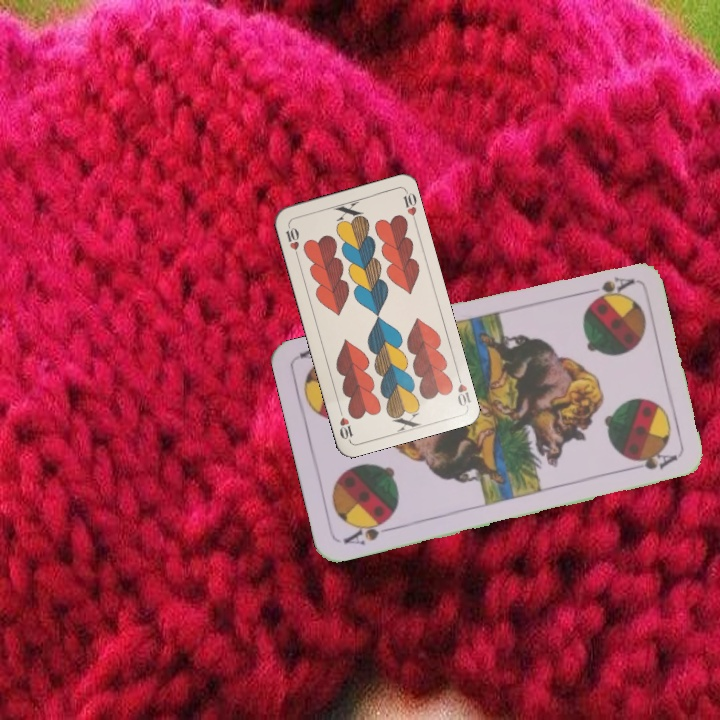H10: (281, 221, 302, 260), (453, 369, 473, 409)
SA: (339, 514, 397, 548), (578, 273, 636, 302)
